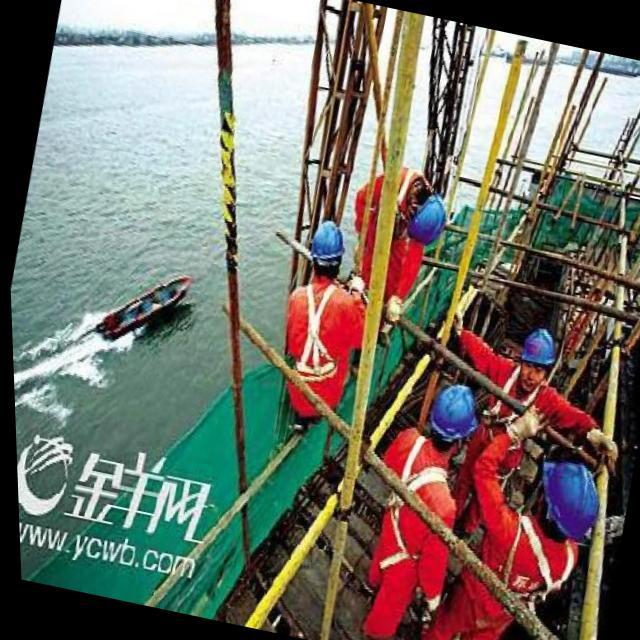belt: (361, 432, 452, 578), (482, 508, 566, 632), (278, 281, 358, 380), (483, 364, 548, 445)
